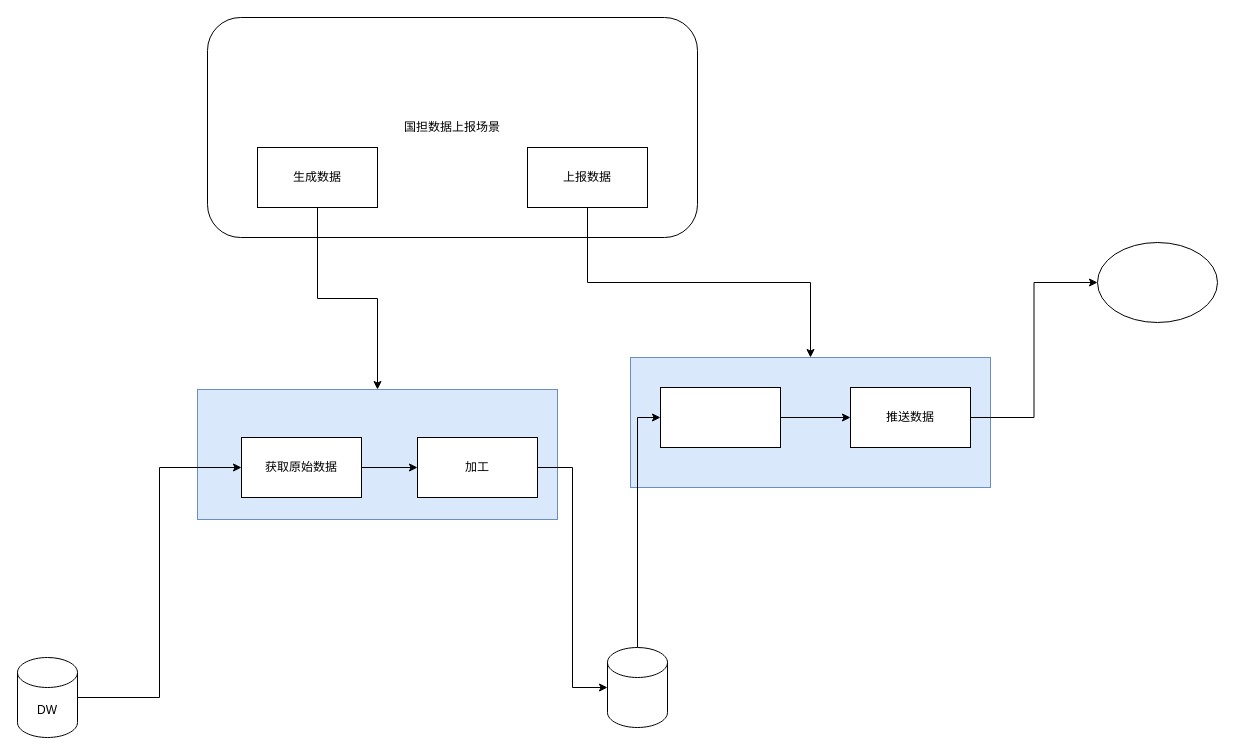
This 1235x755 diagram has some shape labels left out. Here are the shapes that lost their labels. From the top down, the centre of each, then its label:
[1157,282]: 国担接口
[720,417]: 获取中间数据
[637,687]: 中间库
